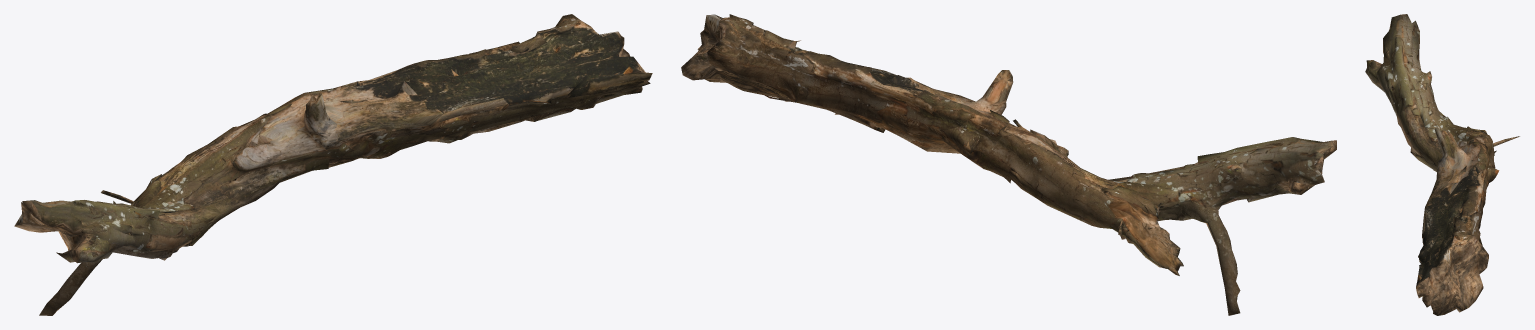
Rendered from dead_trunk.glb.
3 renders of one model, left to right at view 1: azimuth 30°, elevation 25°; view 2: azimuth 150°, elevation 25°; view 3: azimuth 270°, elevation 25°, orthographic. The views are drawn at different scales.
Visible parts, largest first — view 1: dead_tree_trunk_02; view 2: dead_tree_trunk_02; view 3: dead_tree_trunk_02.
Part boxes in pixels (x1=…): dead_tree_trunk_02: x1=14, y1=14, x2=652, y2=315; dead_tree_trunk_02: x1=681, y1=14, x2=1336, y2=315; dead_tree_trunk_02: x1=1365, y1=14, x2=1519, y2=315.
Bounding box in the file's own units: 4.05 × 1.05 × 1.05.
Materials: 1 (1 with a texture image).
